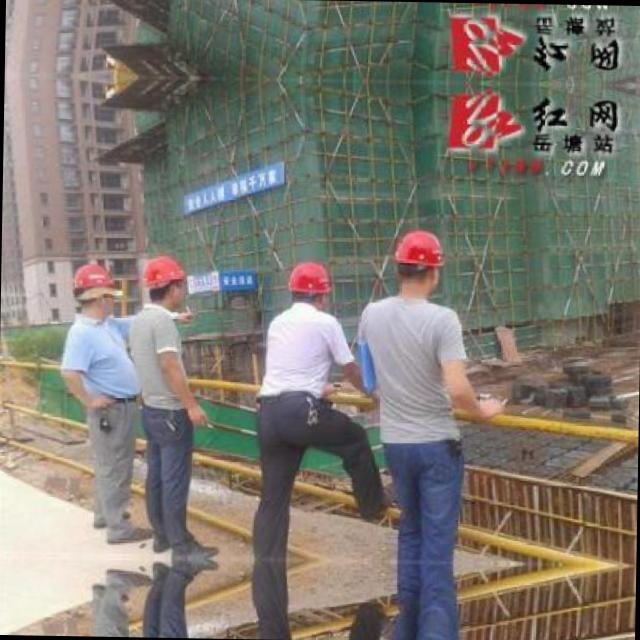helmet: (388, 223, 448, 300), (68, 261, 118, 319), (140, 252, 188, 306), (286, 257, 330, 312)
